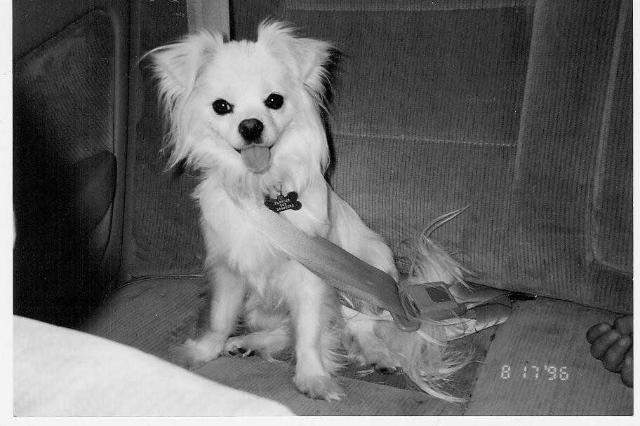Seatbelt: (222, 178, 508, 334)
